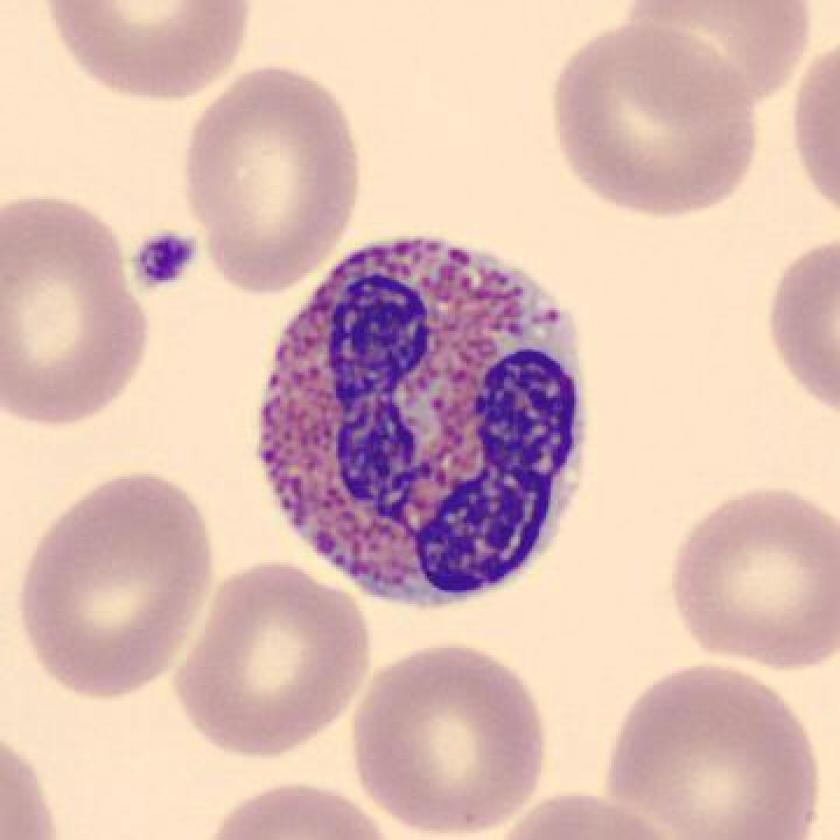eosinophil: (248, 228, 601, 626)
